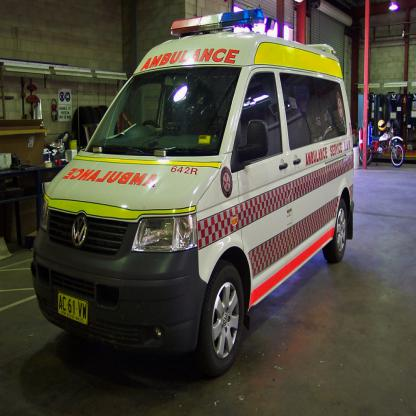Ambulance: (30, 7, 355, 370)
